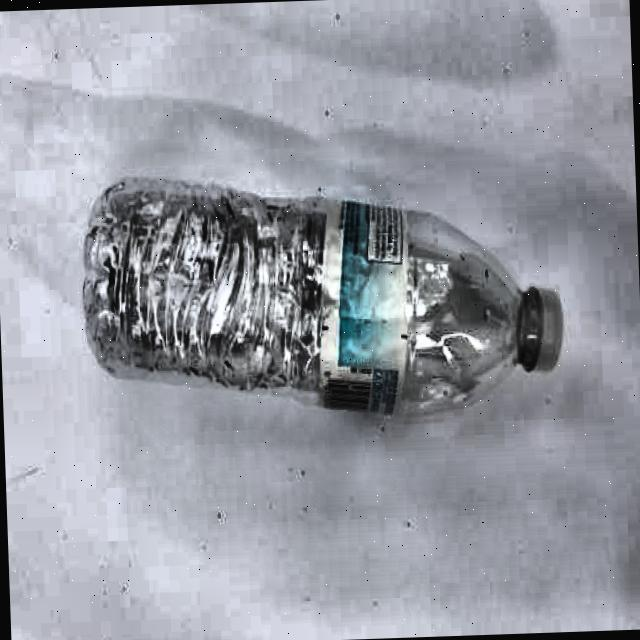plastic: (79, 158, 572, 428)
